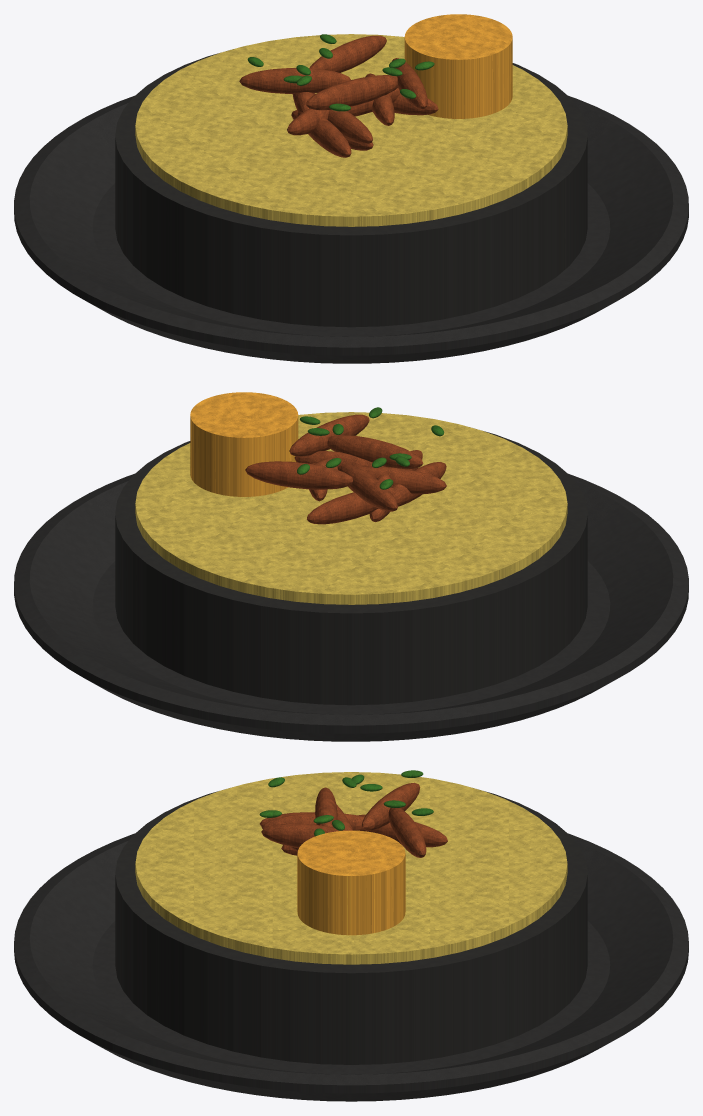
Rendered from ajiaco-contemporaneo.glb.
3 views of the same model, one above another, from view 1: azimuth 30°, elevation 25°; view 2: azimuth 150°, elevation 25°; view 3: azimuth 270°, elevation 25° (orthographic).
Parts seen in each view (by area): view 1: part0, part1, part2, part3, part4, part8; view 2: part0, part1, part2, part3, part4, part8; view 3: part0, part1, part2, part4, part3, part8.
Boxes of the visible parts, x1,y1,x2,y2 form: part0: (14,95,688,363); part1: (115,53,587,327); part2: (135,34,567,226); part3: (239,35,438,157); part4: (404,14,512,118); part8: (247,34,434,111); part0: (14,473,688,741); part1: (115,431,587,705); part2: (135,412,567,604); part3: (245,414,446,524); part4: (190,392,298,496); part8: (297,407,444,489); part0: (14,833,688,1101); part1: (115,791,587,1064); part2: (135,772,567,964); part4: (297,830,405,935); part3: (259,782,447,857); part8: (259,770,433,836).
Bounding box in the file's own units: 0.3 × 0.0925 × 0.3.
Materials: 9 (9 with a texture image).
